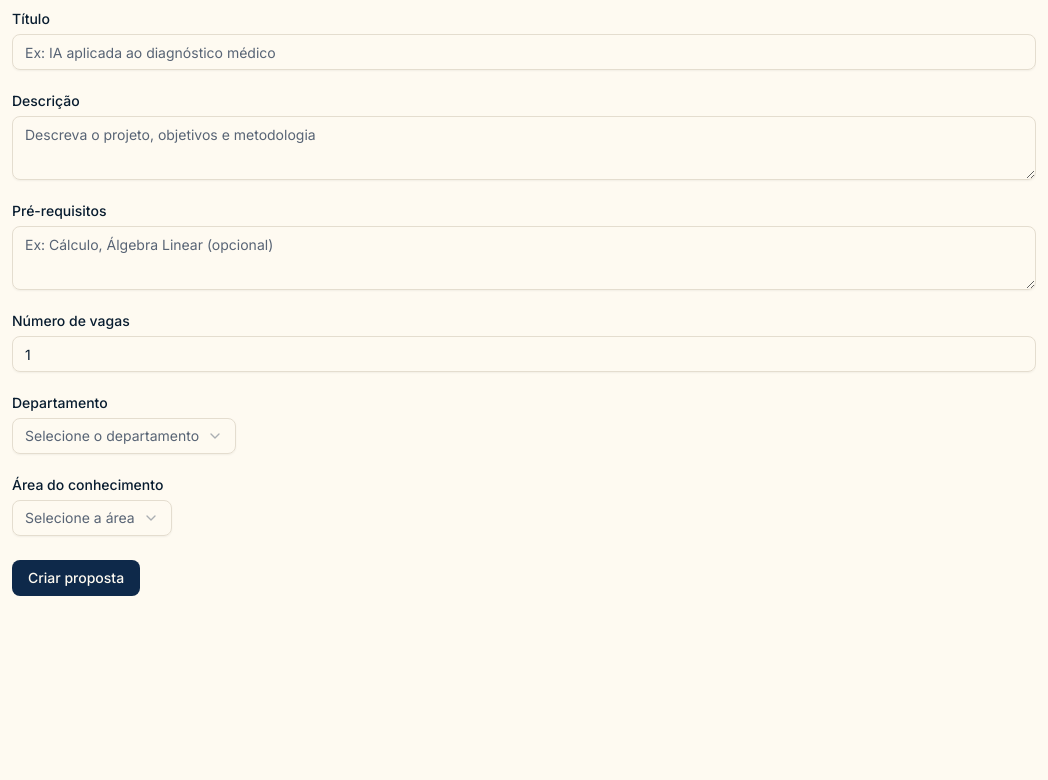
Test: ProposalForm › create mode › shows validation errors on empty submit
Click the button "Criar proposta".
click(76, 578)  # box [12, 560, 140, 596]
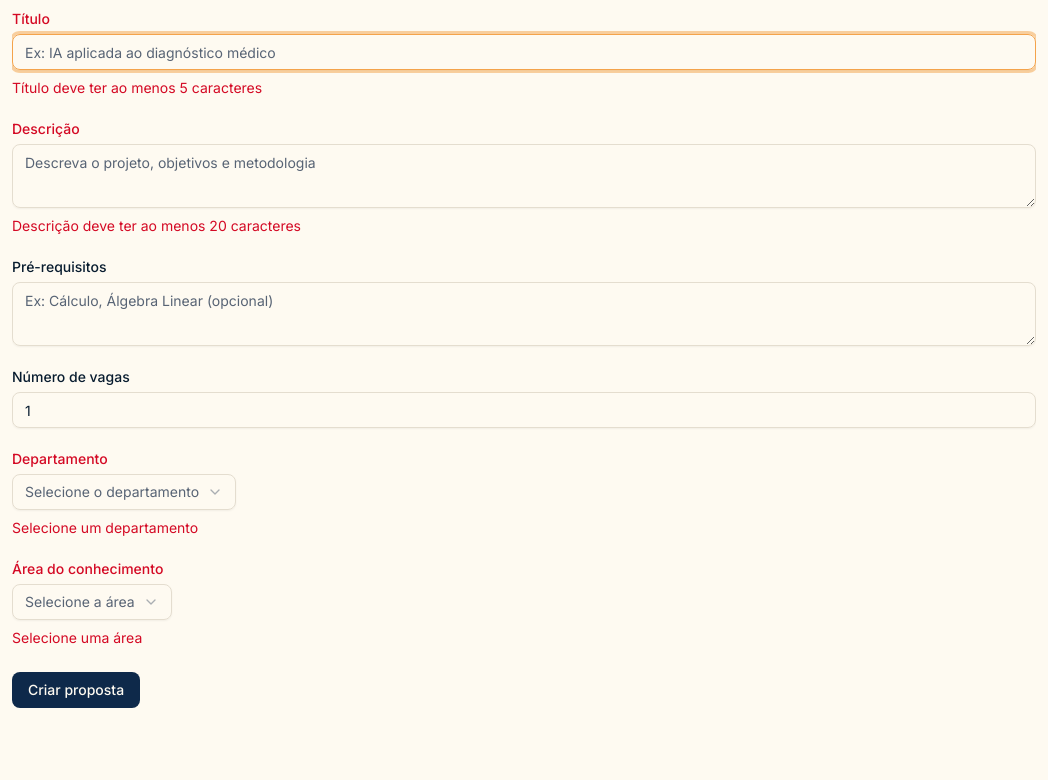
Expected: the text "Título deve ter ao menos 5 caracteres" is shown, [12, 79, 262, 96]
Expected: the text "Descrição deve ter ao menos 20 caracteres" is shown, [12, 217, 301, 234]
